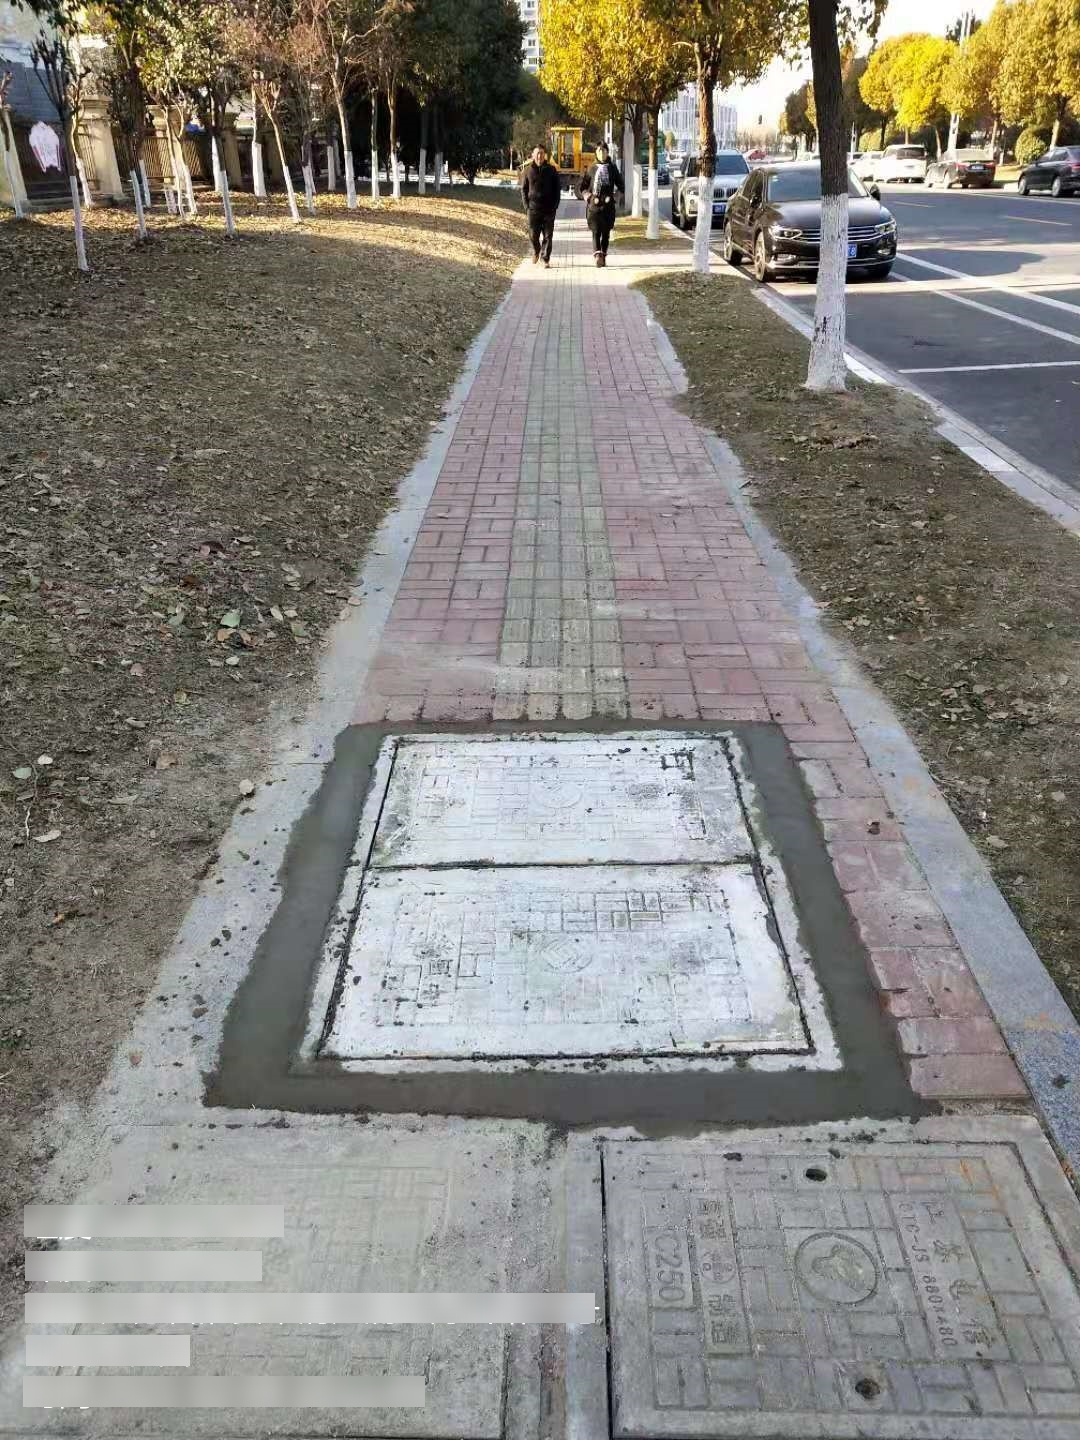good: (292, 729, 847, 1075)
